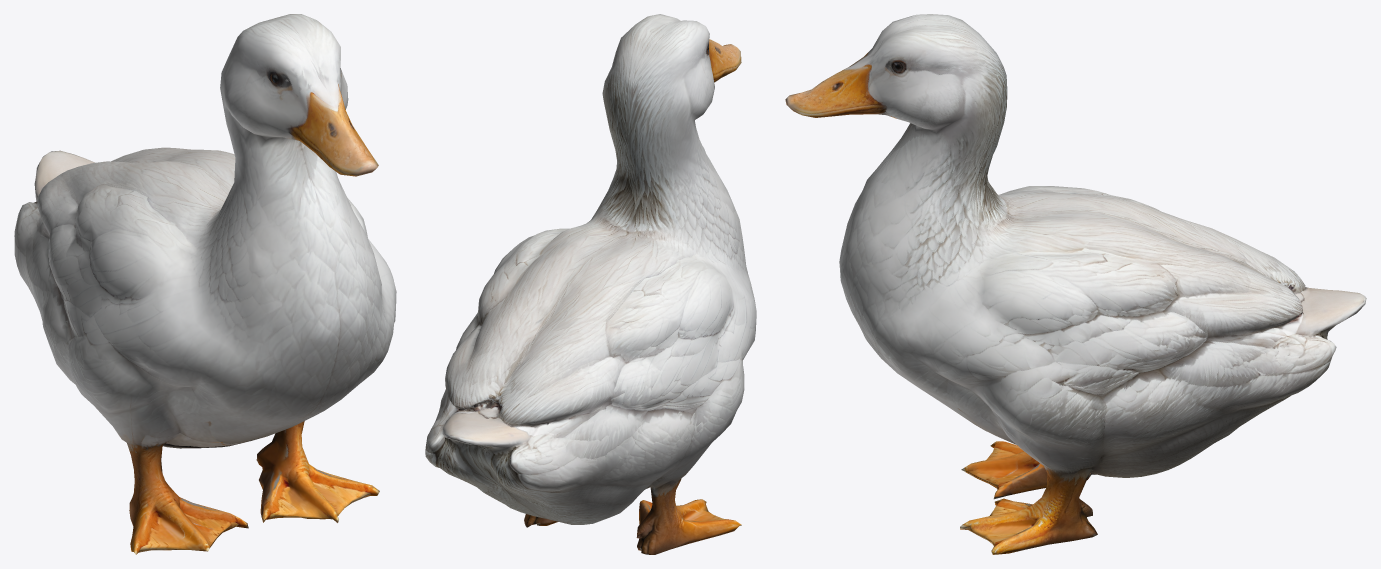
The picture shows the model from 3 angles, left to right: view 1: azimuth 30°, elevation 25°; view 2: azimuth 150°, elevation 25°; view 3: azimuth 270°, elevation 25°; orthographic projection. The views are drawn at different scales.
Visible parts, largest first — view 1: texture_mapping; view 2: texture_mapping; view 3: texture_mapping.
Part boxes in pixels (x1=…): texture_mapping: x1=14, y1=14, x2=396, y2=554; texture_mapping: x1=425, y1=14, x2=756, y2=554; texture_mapping: x1=785, y1=14, x2=1366, y2=554.
Bounding box in the file's own units: 0.5177 × 1 × 0.9236.
1 material, 1 textured.
